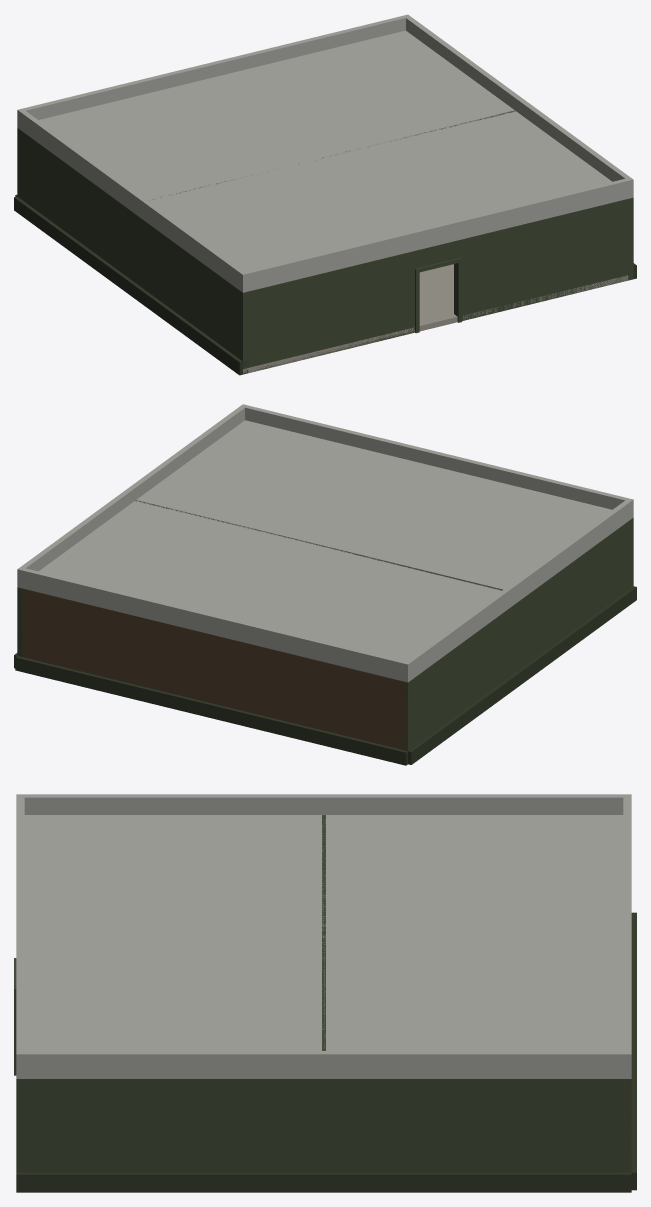
File: bunker_military.glb
3 renders of one model, top to bottom at view 1: azimuth 30°, elevation 25°; view 2: azimuth 150°, elevation 25°; view 3: azimuth 270°, elevation 25°, orthographic. The views are drawn at different scales.
Parts seen in each view (by area): view 1: bunker_military; view 2: bunker_military; view 3: bunker_military.
Boxes of the visible parts, x1,y1,x2,y2 form: bunker_military: [14, 14, 636, 375]; bunker_military: [14, 404, 636, 765]; bunker_military: [14, 794, 636, 1192].
Bounding box in the file's own units: 15.26 × 3.66 × 15.19.
